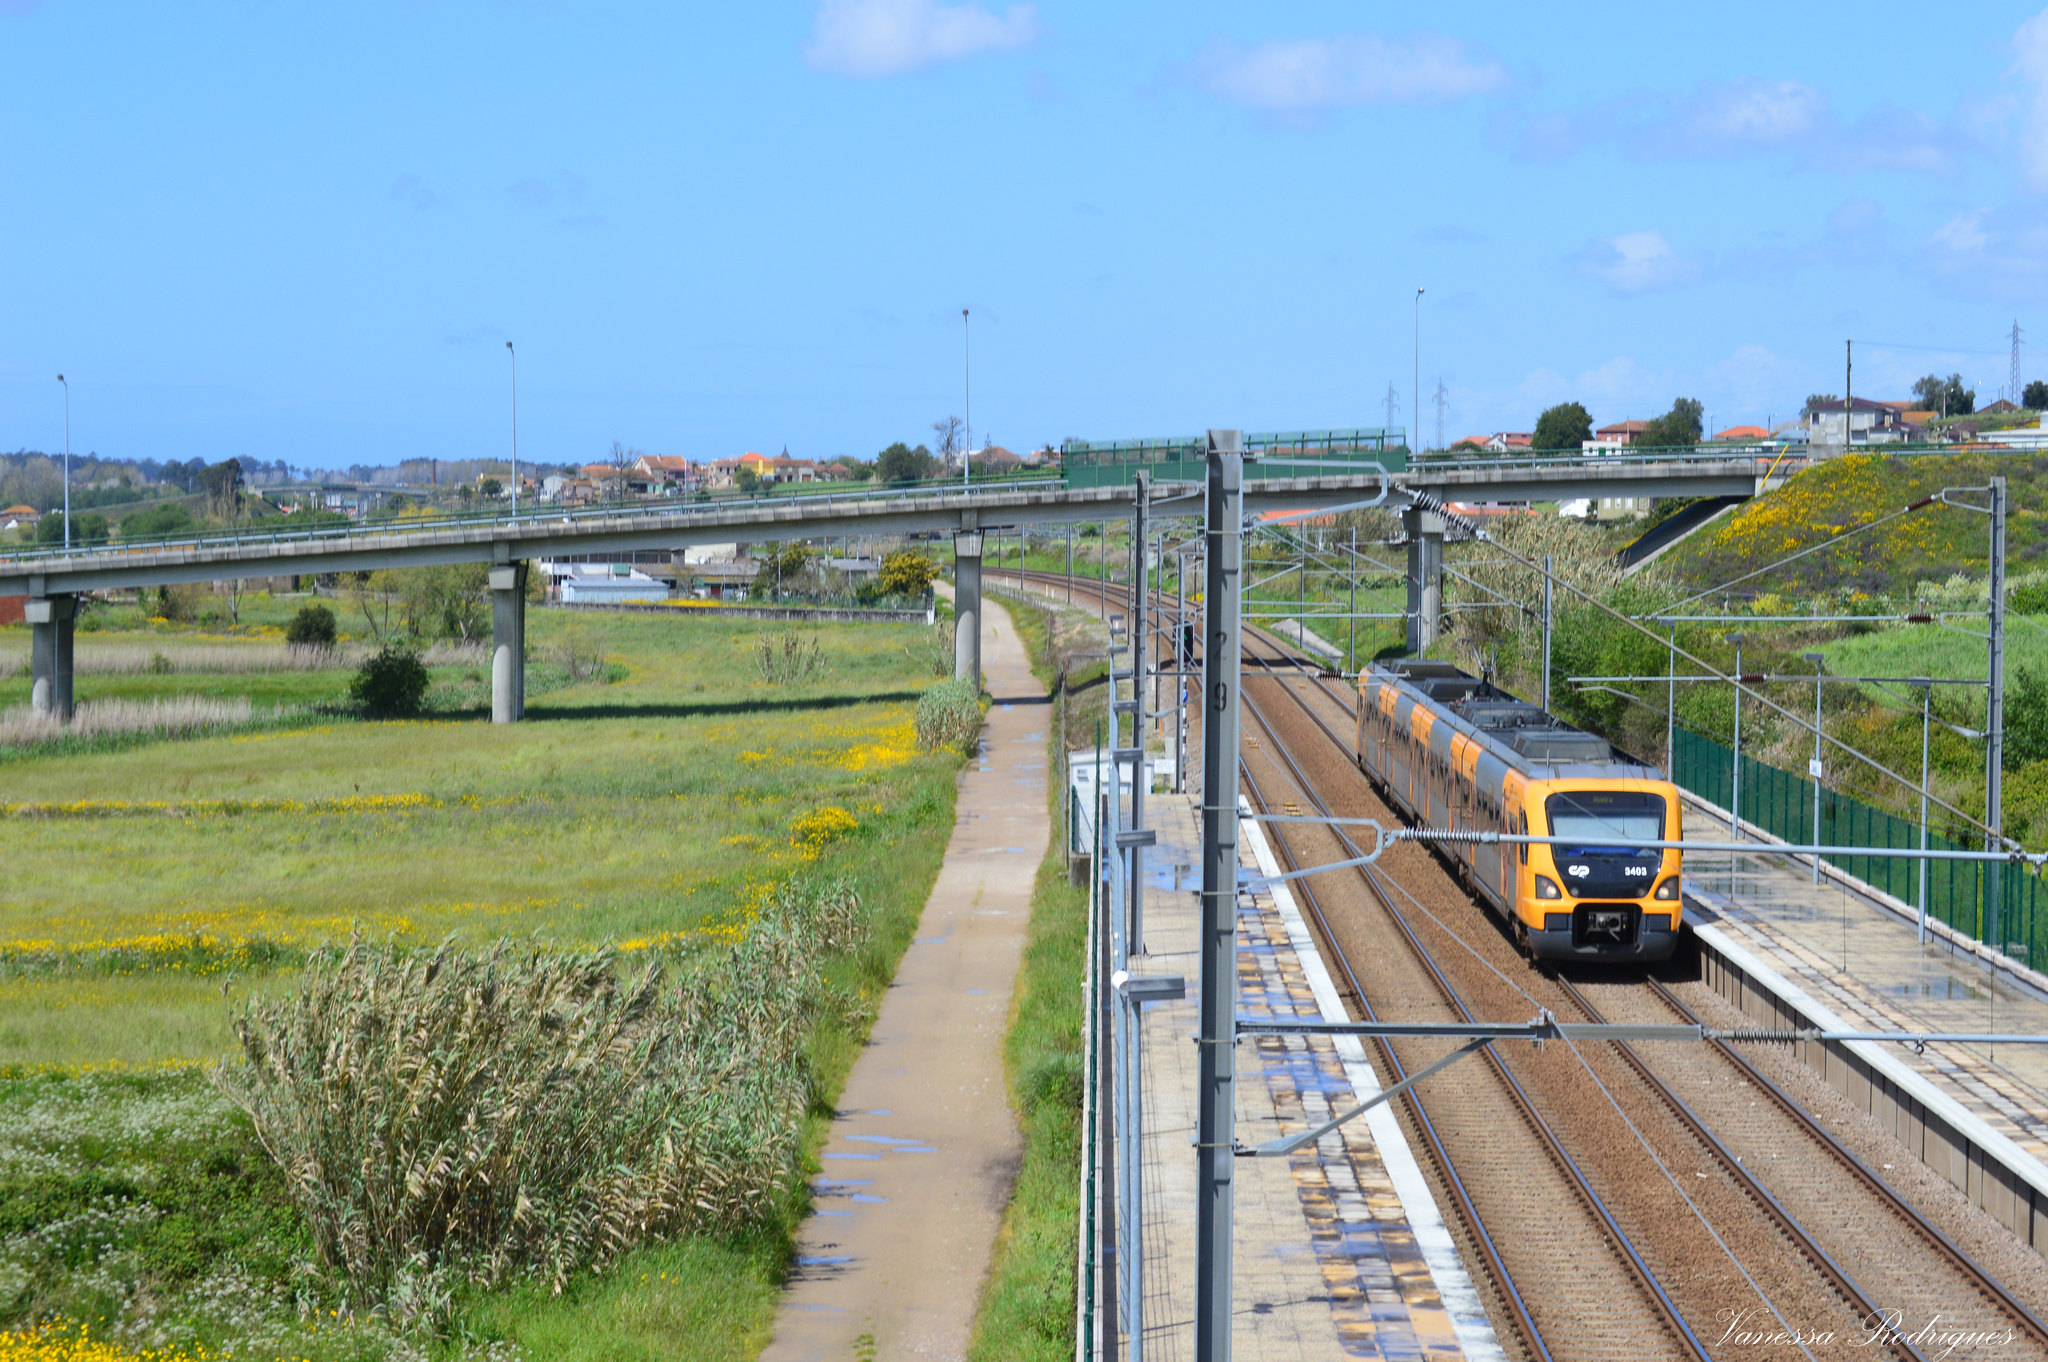train: (1338, 637, 1723, 987)
